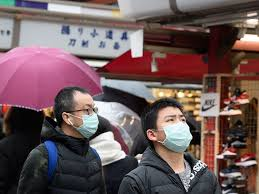mask: (140, 94, 198, 161), (49, 81, 101, 140)
